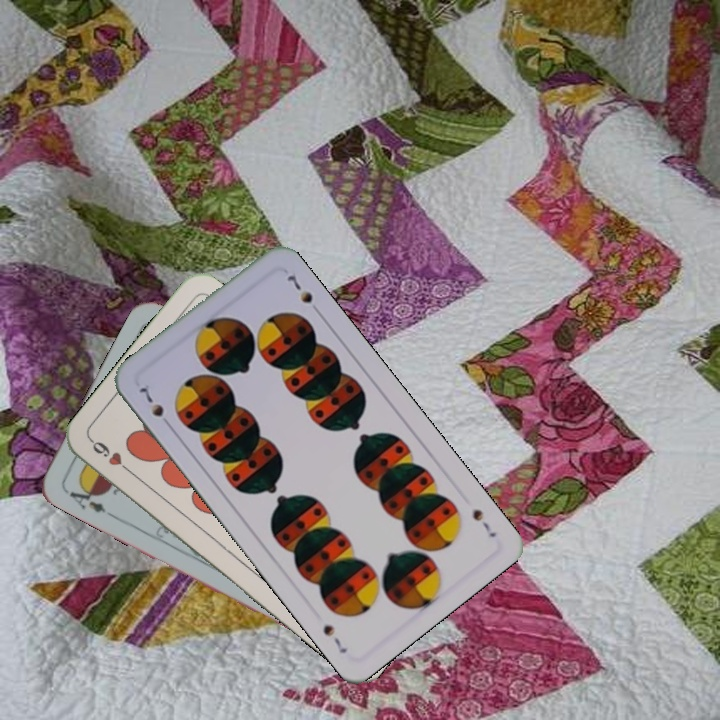EA: (61, 478, 109, 516)
H9: (86, 435, 136, 478)
S7: (135, 383, 175, 431), (468, 505, 500, 540)
